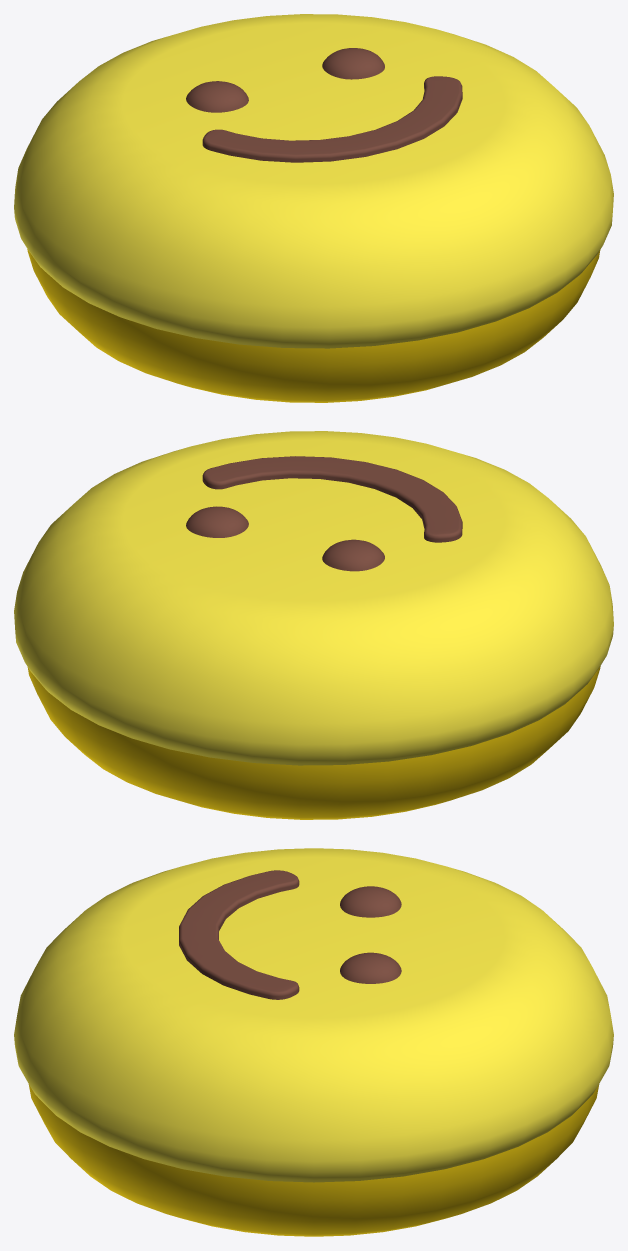
File: Store_14_Donut_11.glb
The picture shows the model from 3 angles, top to bottom: view 1: azimuth 30°, elevation 25°; view 2: azimuth 150°, elevation 25°; view 3: azimuth 270°, elevation 25°; orthographic projection.
Visible parts, largest first — view 1: Store_14_Donut_11; view 2: Store_14_Donut_11; view 3: Store_14_Donut_11.
Part boxes in pixels (x1,y1,x2,y2): Store_14_Donut_11: (14,14,613,402); Store_14_Donut_11: (14,431,613,819); Store_14_Donut_11: (14,848,613,1236).
Bounding box in the file's own units: 2.71 × 1.11 × 2.71.
Materials: 1 (1 with a texture image).
